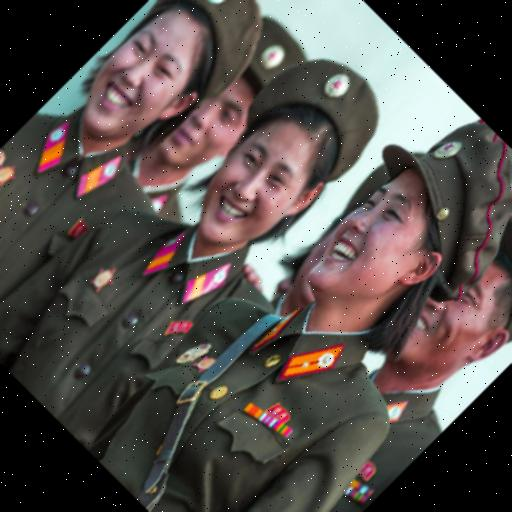north army: (45, 10, 477, 488)
